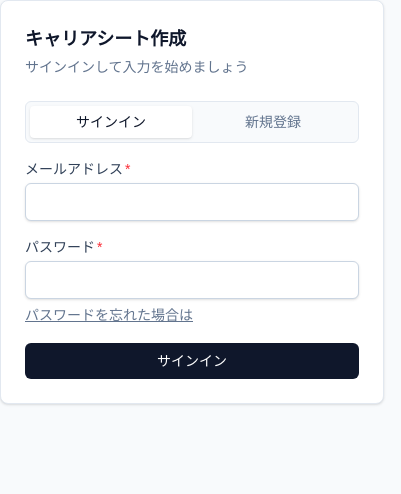
Scenario: LoginForm › shows the server error message when sign-in fails
The image size is (401, 494).
Type "taro@example.com" into the field labelled "メールアドレス". click: (192, 202)
box: x1=25 y1=183 x2=359 y2=221
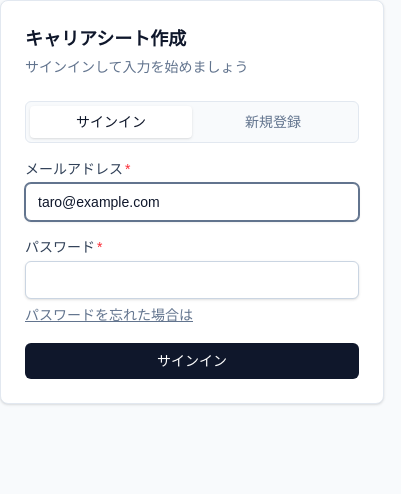
Type "wrong-password" into the password field labelled "パスワード". click: (192, 280)
box: x1=25 y1=261 x2=359 y2=299
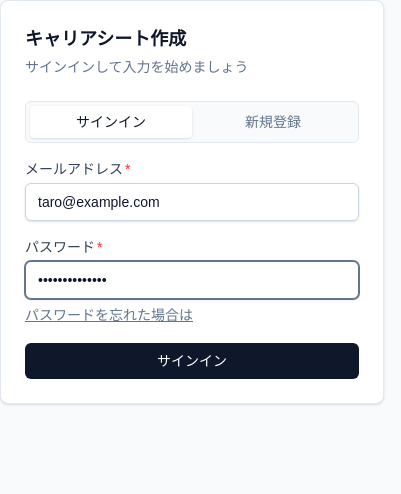
Click the button "サインイン" below "メールアドレス". click: (192, 361)
box: x1=25 y1=343 x2=359 y2=379
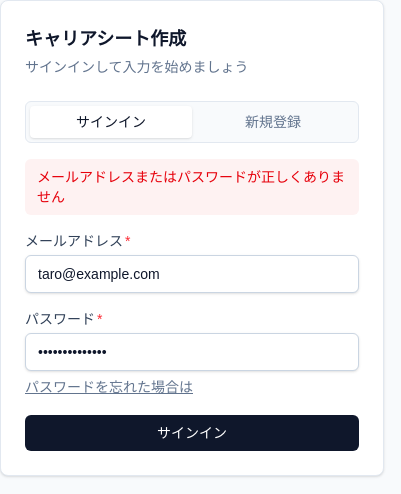
expect the text "メールアドレスまたはパスワードが正しくありません" is shown: met, box x1=25 y1=159 x2=359 y2=215
